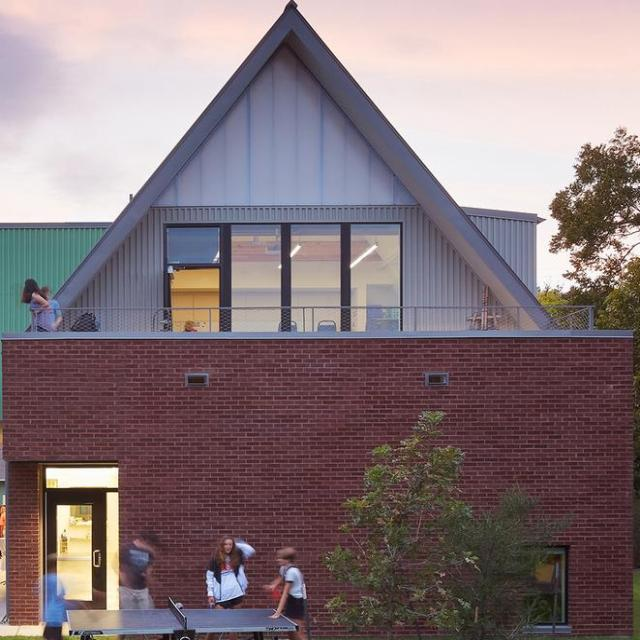door: (42, 465, 121, 610)
railing: (30, 306, 594, 331)
window: (163, 221, 402, 334), (530, 546, 570, 626)
